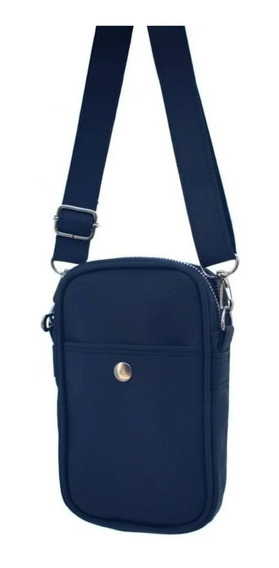cartera: (45, 26, 245, 539)
